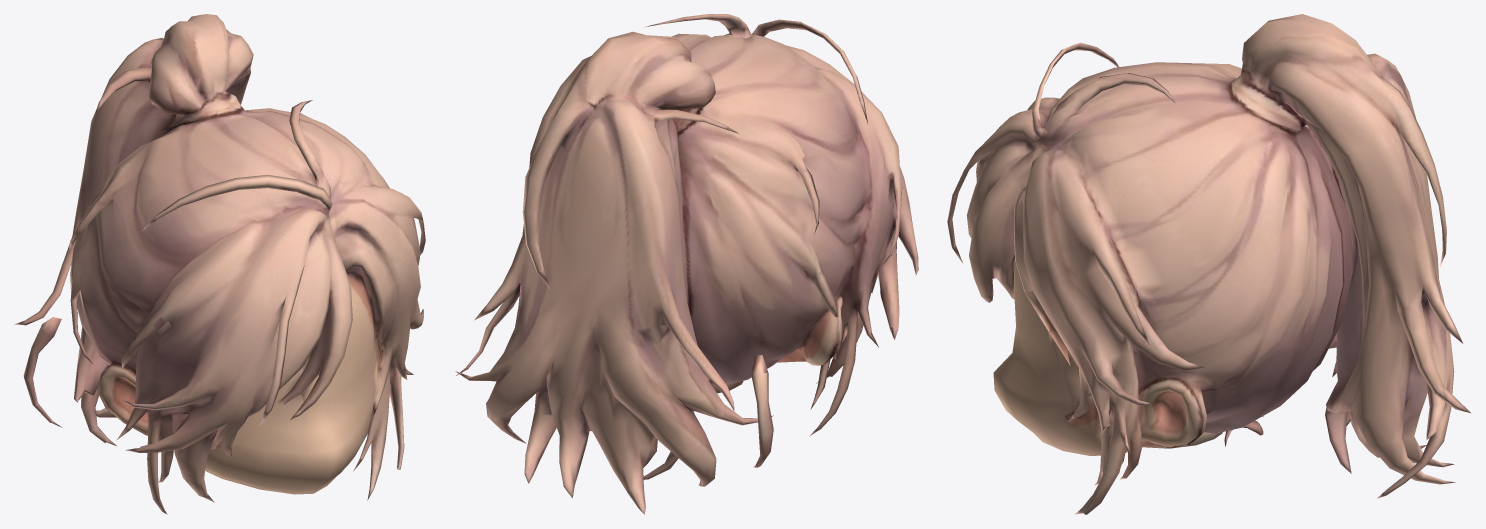
3 renders of one model, left to right at view 1: azimuth 30°, elevation 25°; view 2: azimuth 150°, elevation 25°; view 3: azimuth 270°, elevation 25°, orthographic. The views are drawn at different scales.
Parts seen in each view (by area): view 1: tripo_node_5e5b171b-8648-4375-beaf-c34128725b0f; view 2: tripo_node_5e5b171b-8648-4375-beaf-c34128725b0f; view 3: tripo_node_5e5b171b-8648-4375-beaf-c34128725b0f.
Boxes of the visible parts, <box> form: tripo_node_5e5b171b-8648-4375-beaf-c34128725b0f: <box>14,14,425,514</box>; tripo_node_5e5b171b-8648-4375-beaf-c34128725b0f: <box>455,14,918,514</box>; tripo_node_5e5b171b-8648-4375-beaf-c34128725b0f: <box>947,14,1470,514</box>.
Bounding box in the file's own units: 0.4195 × 0.5102 × 0.5267.
Materials: 1 (1 with a texture image).
